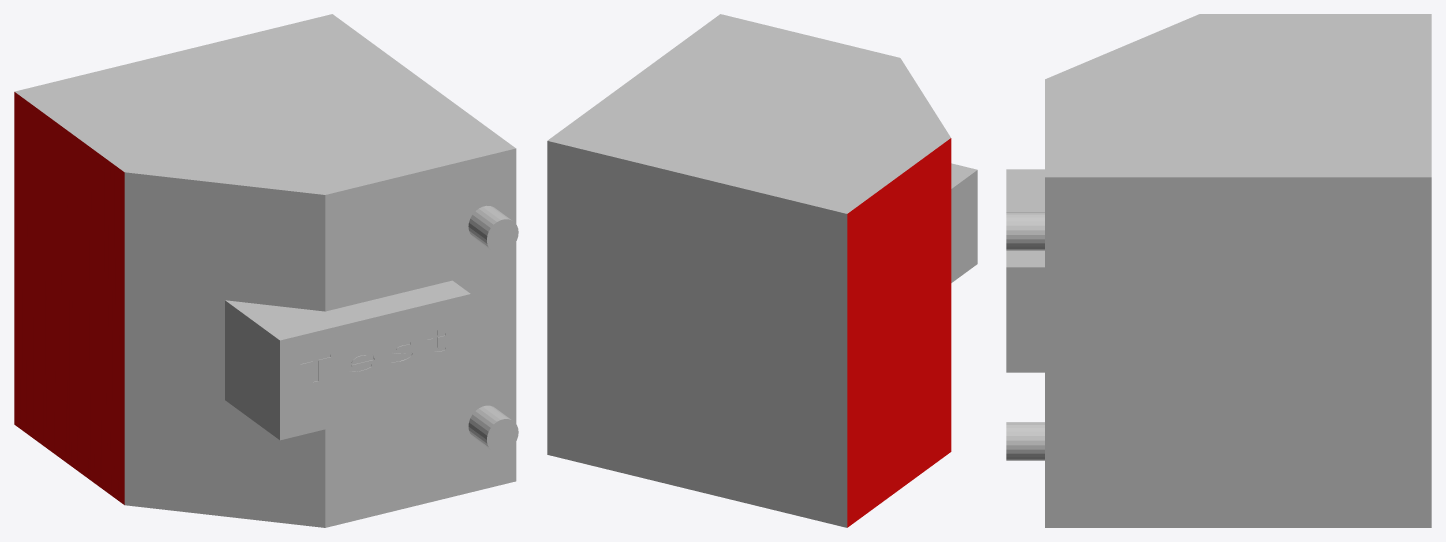
The model's file is TESTE_M1_SF_stp_24.obj.
The picture shows the model from 3 angles, left to right: view 1: azimuth 30°, elevation 25°; view 2: azimuth 150°, elevation 25°; view 3: azimuth 270°, elevation 25°; orthographic projection. The views are drawn at different scales.
Parts seen in each view (by area): view 1: Object1; view 2: Object1; view 3: Object1.
Part boxes in pixels (box(x1,y1,x2,y2)): Object1: box(14, 14, 518, 527); Object1: box(547, 14, 977, 527); Object1: box(1006, 14, 1431, 527).
Bounding box in the file's own units: 50 × 50 × 55.
